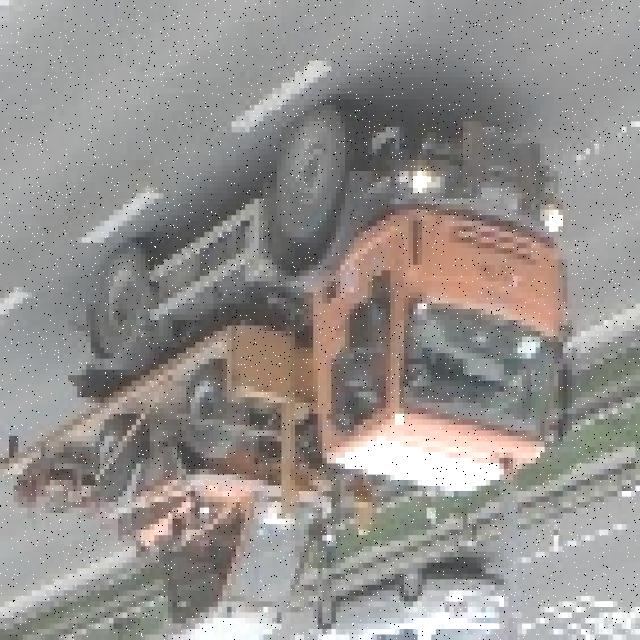truck: (4, 99, 582, 640)
